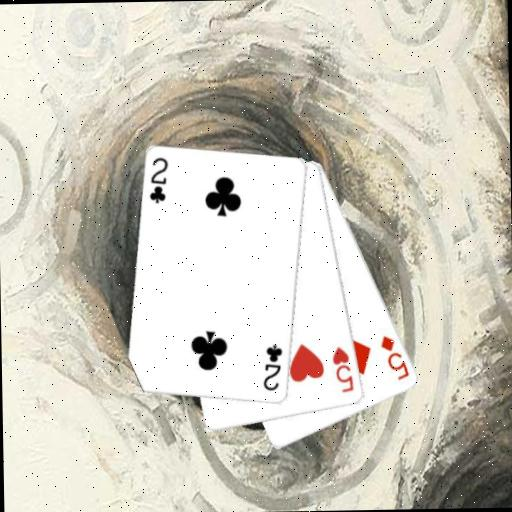2C: (260, 342, 285, 393), (146, 154, 170, 205)
5D: (378, 332, 411, 382)
5H: (330, 344, 356, 395)
